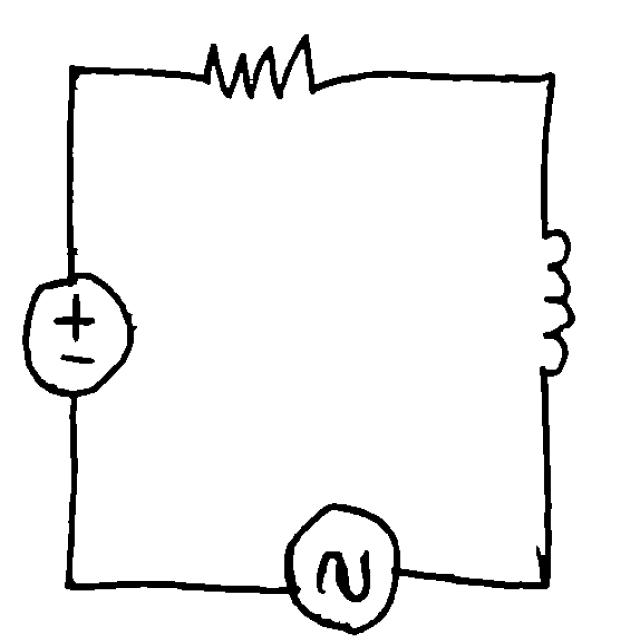ac: (268, 489, 416, 640)
dc: (13, 264, 142, 406)
inductor: (522, 211, 583, 392)
resistor: (182, 26, 344, 109)
